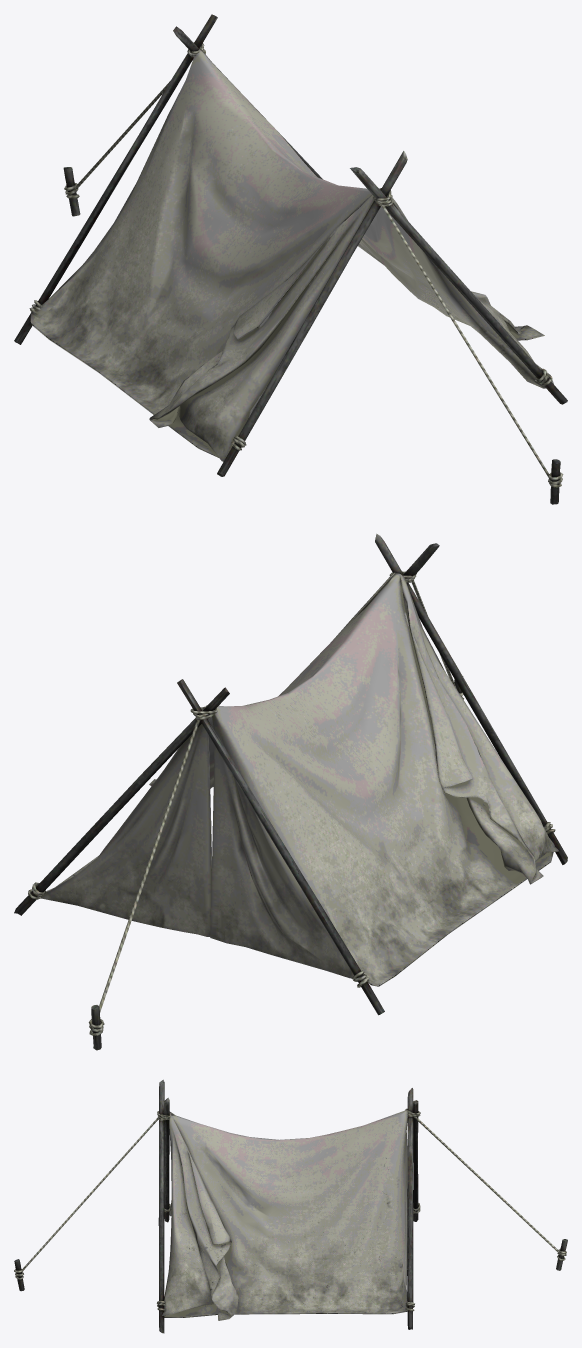
Rendered from Tent.fbx.
The picture shows the model from 3 angles, top to bottom: view 1: azimuth 30°, elevation 25°; view 2: azimuth 150°, elevation 25°; view 3: azimuth 270°, elevation 25°; orthographic projection. The views are drawn at different scales.
Visible parts, largest first — view 1: Tent_LOD0; view 2: Tent_LOD0; view 3: Tent_LOD0.
Part boxes in pixels (x1,y1,x2,y2): Tent_LOD0: [14, 14, 567, 504]; Tent_LOD0: [14, 533, 567, 1050]; Tent_LOD0: [14, 1079, 567, 1333].
Size of what is drawn, in the model's own units: 2.84 by 5.46 by 2.03.
